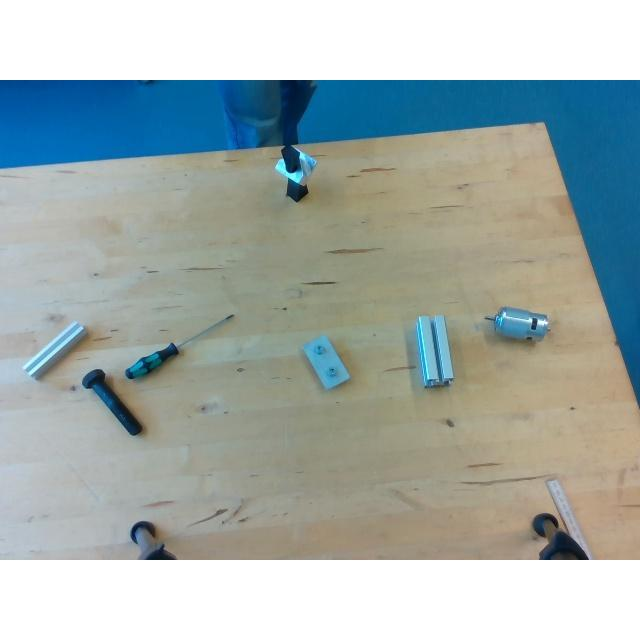F20_20_G: (23, 322, 86, 378)
M20_100: (82, 368, 144, 436)
Motor2: (484, 306, 548, 338)
S40_40_G: (416, 315, 452, 385)
Screwdriver: (123, 313, 233, 377)
